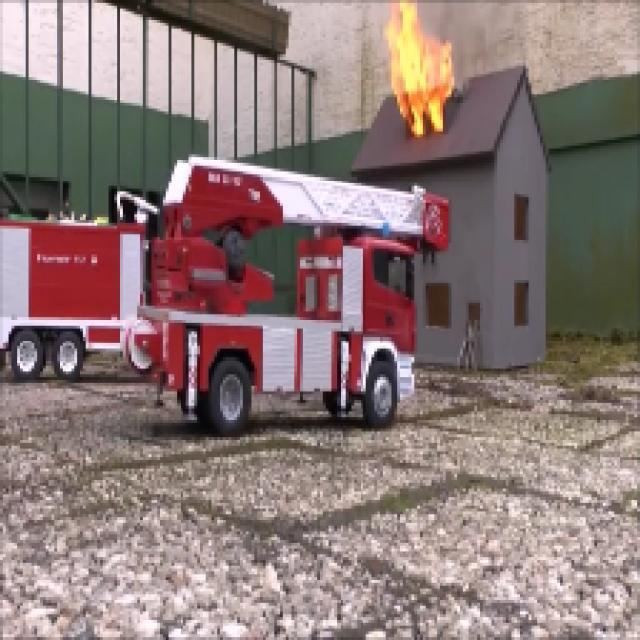Fire: (368, 10, 470, 128)
